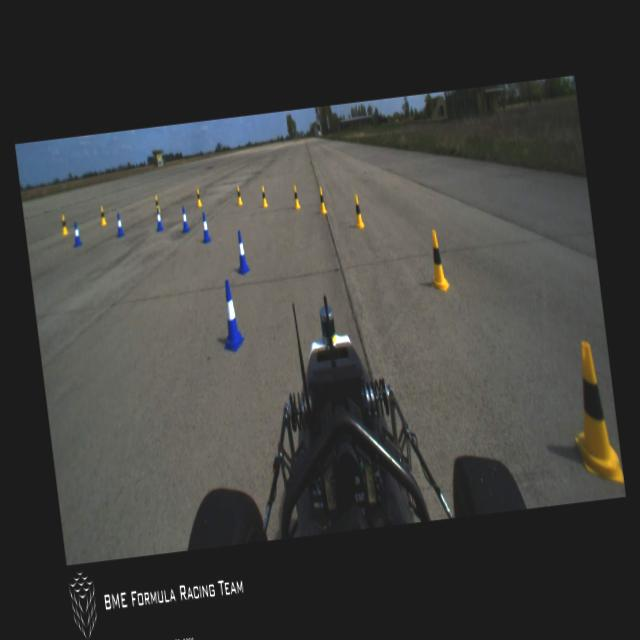blue_cone: (216, 278, 246, 352), (232, 229, 250, 274), (178, 206, 190, 232), (200, 212, 210, 242), (114, 212, 124, 238), (71, 221, 81, 246), (154, 207, 164, 231)
yellow_cone: (564, 339, 624, 486), (426, 228, 450, 294), (352, 192, 364, 228), (318, 187, 327, 214), (59, 214, 69, 236), (291, 184, 300, 208), (98, 204, 106, 227), (260, 185, 268, 207), (235, 184, 242, 206), (152, 194, 160, 213), (194, 188, 202, 206)
